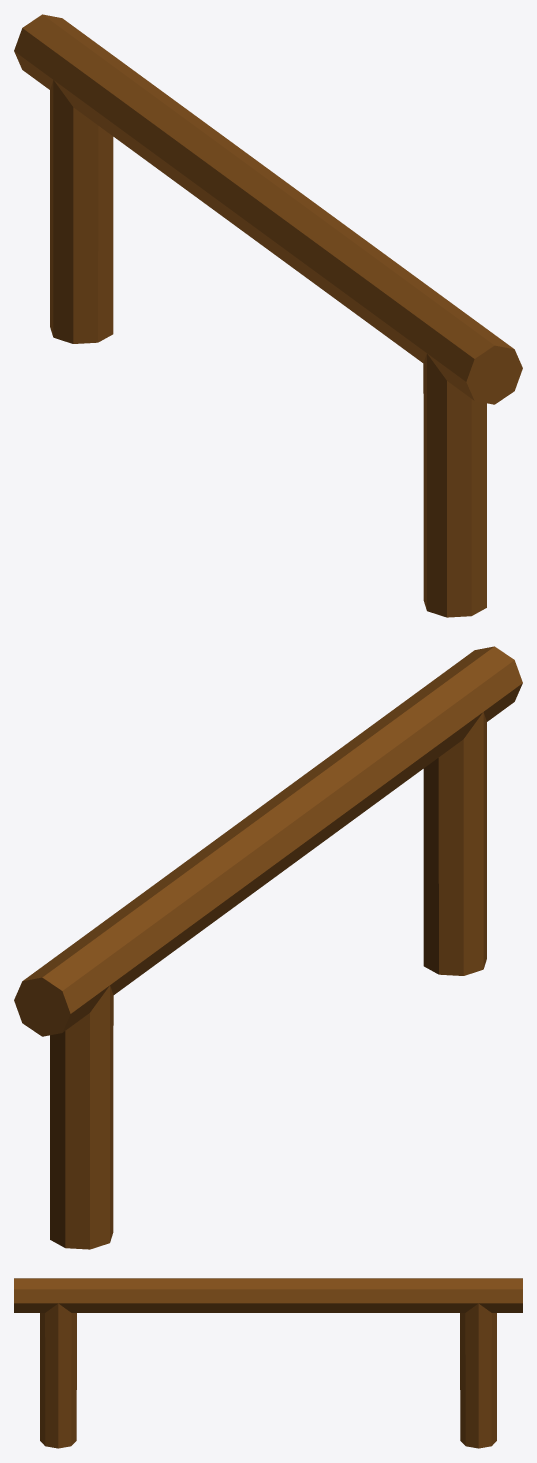
The model's file is Horse_Hitch.fbx.
3 renders of one model, top to bottom at view 1: azimuth 30°, elevation 25°; view 2: azimuth 150°, elevation 25°; view 3: azimuth 270°, elevation 25°, orthographic. The views are drawn at different scales.
Visible parts, largest first — view 1: Horse_Hitch; view 2: Horse_Hitch; view 3: Horse_Hitch.
Part boxes in pixels (x1,y1,x2,y2): Horse_Hitch: [14, 14, 522, 617]; Horse_Hitch: [14, 646, 522, 1249]; Horse_Hitch: [14, 1278, 522, 1448].
Bounding box in the file's own units: 0.5368 × 2.6 × 7.42.
